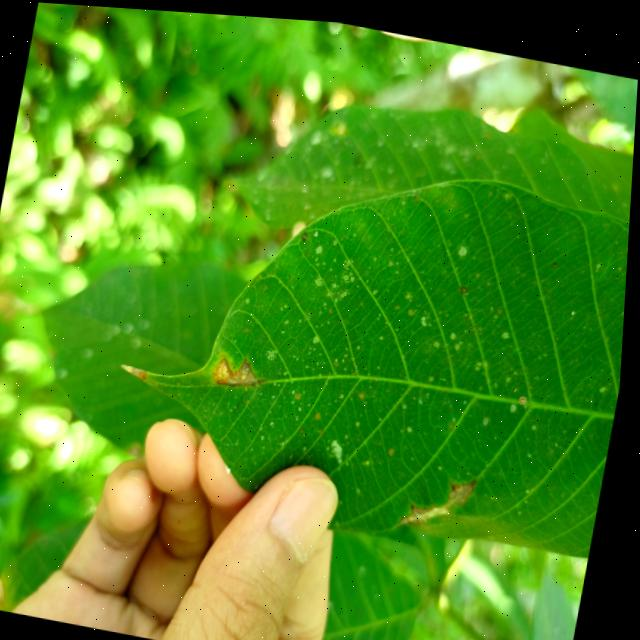Colletotrichum: (301, 226, 309, 237)
Corynespora: (402, 459, 481, 531)
Leaf-Blight: (123, 362, 150, 378)
